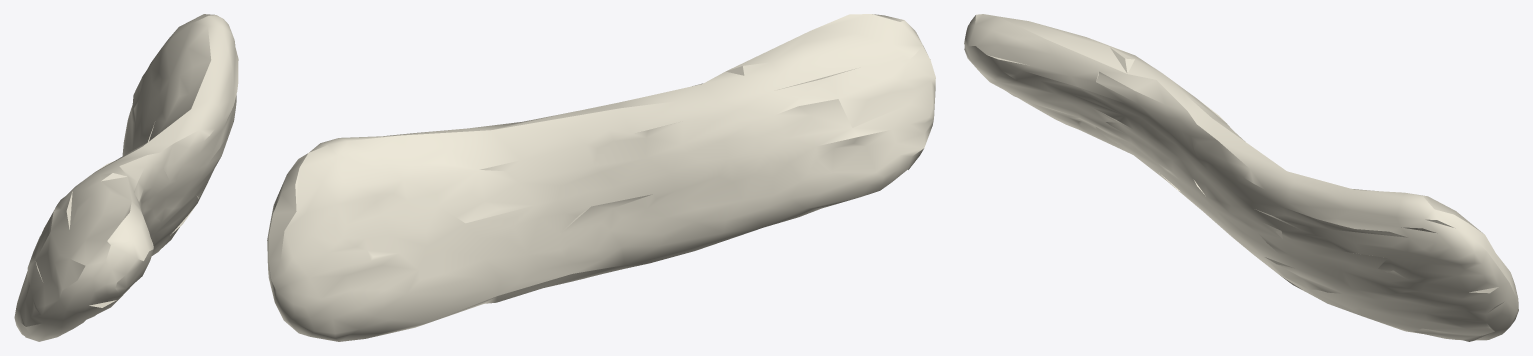
File: fma44086_mm1357.glb
3 renders of one model, left to right at view 1: azimuth 30°, elevation 25°; view 2: azimuth 150°, elevation 25°; view 3: azimuth 270°, elevation 25°, orthographic. The views are drawn at different scales.
Visible parts, largest first — view 1: FMA44086_MM1357; view 2: FMA44086_MM1357; view 3: FMA44086_MM1357.
Part boxes in pixels (x1,y1,x2,y2): FMA44086_MM1357: (14,14,238,341); FMA44086_MM1357: (267,14,935,341); FMA44086_MM1357: (964,14,1518,341).
Bounding box in the file's own units: 0.0226 × 0.0111 × 0.0279.
